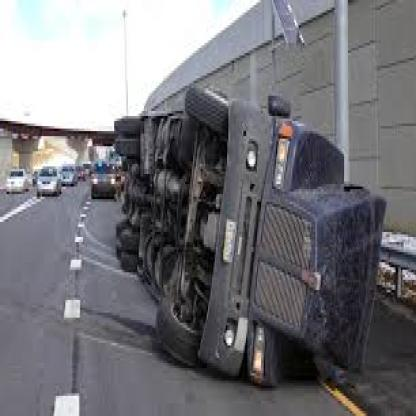accident: (102, 75, 394, 392)
